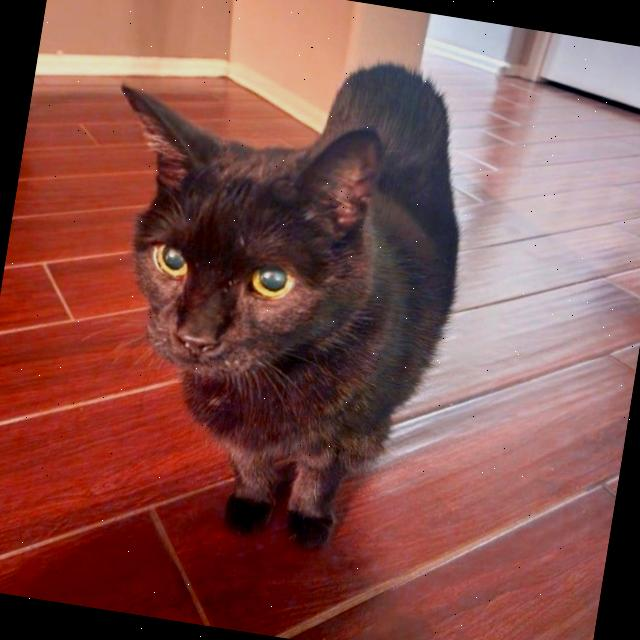bombay_cat: (65, 76, 412, 419)
